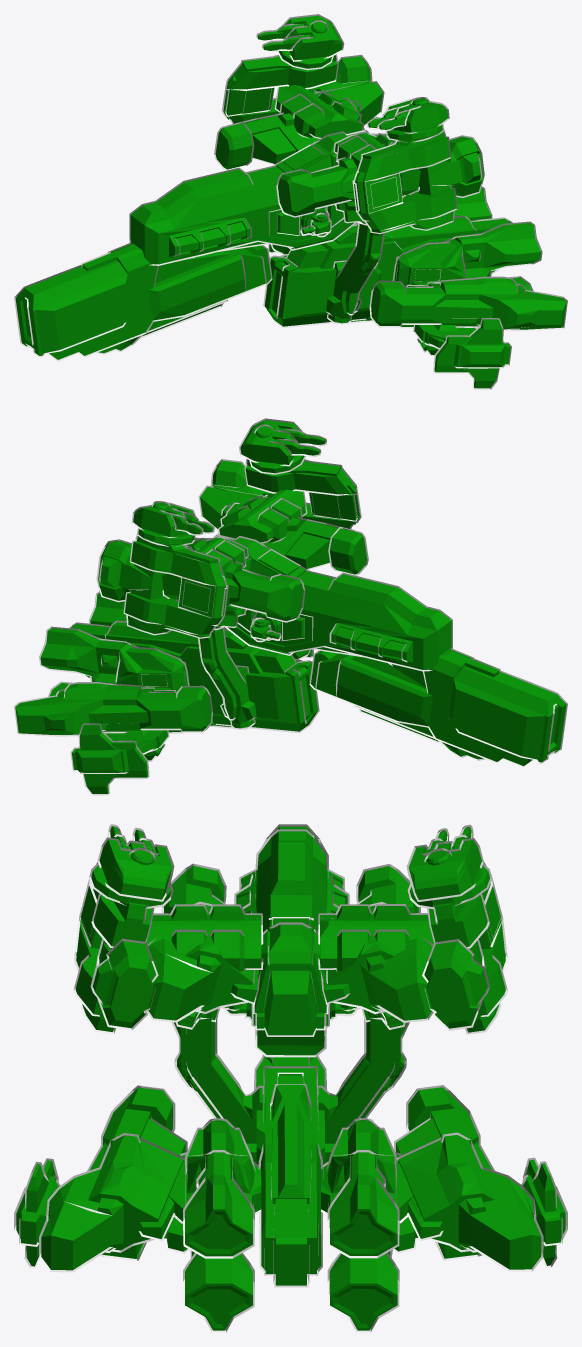
File: ship9_green.glb
3 renders of one model, top to bottom at view 1: azimuth 30°, elevation 25°; view 2: azimuth 150°, elevation 25°; view 3: azimuth 270°, elevation 25°, orthographic. The views are drawn at different scales.
Visible parts, largest first — view 1: ME_ship_IndexedFaceSet, ME_ship_IndexedFaceSet.001; view 2: ME_ship_IndexedFaceSet, ME_ship_IndexedFaceSet.001; view 3: ME_ship_IndexedFaceSet.001, ME_ship_IndexedFaceSet.
Part boxes in pixels (x1,y1,x2,y2): ME_ship_IndexedFaceSet: (14,14,484,361); ME_ship_IndexedFaceSet.001: (263,85,567,389); ME_ship_IndexedFaceSet: (96,418,567,767); ME_ship_IndexedFaceSet.001: (14,489,319,795); ME_ship_IndexedFaceSet.001: (14,904,567,1332); ME_ship_IndexedFaceSet: (73,824,507,1057).
Bounding box in the file's own units: 702 × 376 × 472.
